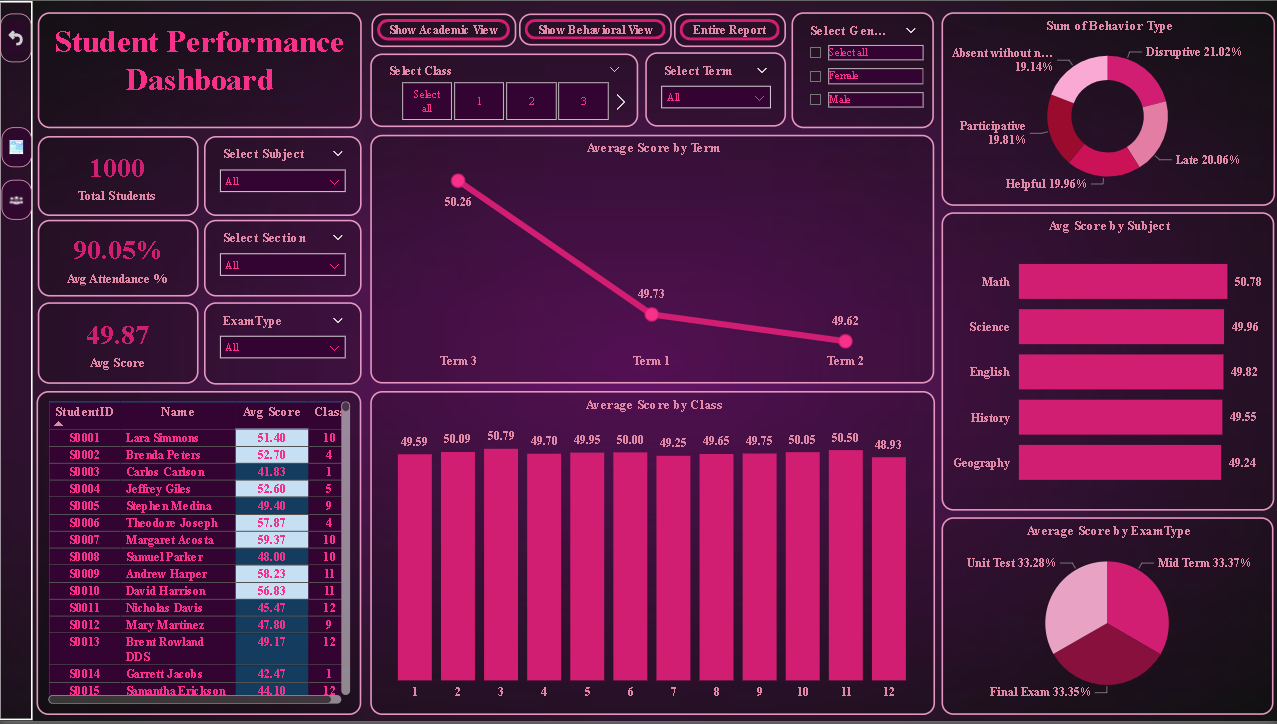

Layout of this report page (visuals, bound fields, positions):
{"tool":"powerbi","page":{"name":"Student Performance Dashboard","canvas":[1280,720],"ordinal":0},"visuals":[{"type":"shape","box":[0,0,33.3,719.2],"z":0,"group":"g1"},{"type":"clusteredBarChart","title":"Avg Score by Subject ","fields":{"Category":["Scores_Data.Subject"],"Y":["Measure Table.Average Score"]},"box":[942.9,211.4,332.9,298.6],"z":1000,"group":"g1"},{"type":"actionButton","box":[1.1,12.2,31.1,48.9],"z":2000,"group":"g1"},{"type":"card","fields":{"Values":["Measure Table.Total Students"]},"box":[38.5,134.4,160.4,80.2],"z":3000,"group":"g1"},{"type":"actionButton","box":[2,126,30,40],"z":4000,"group":"g1"},{"type":"textbox","box":[39,11,324,116],"z":5000,"group":"g1"},{"type":"actionButton","box":[2,179,30,40],"z":6000,"group":"g1"},{"type":"card","fields":{"Values":["Measure Table.Average Attendance %"]},"box":[38.5,218.8,160.4,77.1],"z":7000,"group":"g1"},{"type":"card","fields":{"Values":["Measure Table.Average Score"]},"box":[38.5,301,160.4,81.2],"z":8000,"group":"g1"},{"type":"slicer","title":"Select subject","fields":{"Values":["Scores_Data.Subject"]},"box":[205.2,134.4,157.3,80.2],"z":9000,"group":"g1"},{"type":"tableEx","fields":{"Values":["Students_Data.StudentID","Students_Data.Name","Measure Table.Average Score","Students_Data.Class"]},"box":[38,390,325,324],"z":10000,"group":"g1"},{"type":"slicer","fields":{"Values":["Students_Data.Class"]},"box":[371.6,51.9,267.8,73.6],"z":11000,"group":"g1"},{"type":"donutChart","title":"Sum of Behavior Type","fields":{"Category":["Behavior_Data.BehaviorType"],"Y":["Behavior_Data.Behavior Count per Type"]},"box":[942.4,11.1,333.3,193.9],"z":12000,"group":"g1"},{"type":"lineChart","fields":{"Y":["Measure Table.Average Score"],"Category":["Scores_Data.Term"]},"box":[371.4,134.3,564.3,248.6],"z":13000,"group":"g1"},{"type":"pieChart","fields":{"Category":["Scores_Data.ExamType"],"Y":["Measure Table.Average Score"]},"box":[942.7,516.7,332.3,197.9],"z":14000,"group":"g1"},{"type":"slicer","fields":{"Values":["Students_Data.Section"]},"box":[205.2,218.8,157.3,77.1],"z":15000,"group":"g1"},{"type":"slicer","fields":{"Values":["Scores_Data.ExamType"]},"box":[205.2,301,157.3,82.3],"z":16000,"group":"g1"},{"type":"slicer","title":"Select subject","fields":{"Values":["Scores_Data.Term"]},"box":[645.8,51.7,140.8,74.2],"z":17000,"group":"g1"},{"type":"actionButton","box":[371.9,12.5,144.8,33.3],"z":18000,"group":"g1"},{"type":"actionButton","box":[519.8,12.5,153.1,32.3],"z":19000,"group":"g1"},{"type":"actionButton","box":[674.7,12.1,112.1,33.3],"z":20000,"group":"g1"},{"type":"clusteredColumnChart","fields":{"Category":["Students_Data.Class"],"Y":["Measure Table.Average Score"]},"box":[371,390,565,324],"z":21000,"group":"g1"},{"type":"slicer","title":"Select Gender","fields":{"Values":["Students_Data.Gender"]},"box":[792.7,11.5,142.7,115.6],"z":22000,"group":"g1"},{"type":"group","id":"g1","title":"Group 1","box":[0,0,1275.8,719.2],"z":22001}]}

Visuals, with their boxes in screenshot pixels (x1, y1, x2, y2):
shape: <box>0,7,33,714</box>
"Avg Score by Subject " clusteredBarChart: <box>928,215,1255,508</box>
actionButton: <box>1,19,32,67</box>
card - Measure Table.Total Students: <box>38,139,196,218</box>
actionButton: <box>2,131,32,170</box>
textbox: <box>38,18,357,132</box>
actionButton: <box>2,183,32,222</box>
card - Measure Table.Average Attendance %: <box>38,222,196,298</box>
card - Measure Table.Average Score: <box>38,303,196,383</box>
"Select subject" slicer: <box>202,139,357,218</box>
tableEx - Students_Data.StudentID x Students_Data.Name: <box>37,390,357,709</box>
slicer - Students_Data.Class: <box>366,58,629,130</box>
"Sum of Behavior Type" donutChart: <box>927,18,1255,208</box>
lineChart - Measure Table.Average Score x Scores_Data.Term: <box>365,139,921,383</box>
pieChart - Scores_Data.ExamType x Measure Table.Average Score: <box>927,515,1254,710</box>
slicer - Students_Data.Section: <box>202,222,357,298</box>
slicer - Scores_Data.ExamType: <box>202,303,357,384</box>
"Select subject" slicer: <box>635,58,774,131</box>
actionButton: <box>366,19,508,52</box>
actionButton: <box>511,19,662,51</box>
actionButton: <box>664,19,774,52</box>
clusteredColumnChart - Students_Data.Class x Measure Table.Average Score: <box>365,390,921,709</box>
"Select Gender" slicer: <box>780,18,920,132</box>
"Group 1" group: <box>0,7,1255,714</box>
